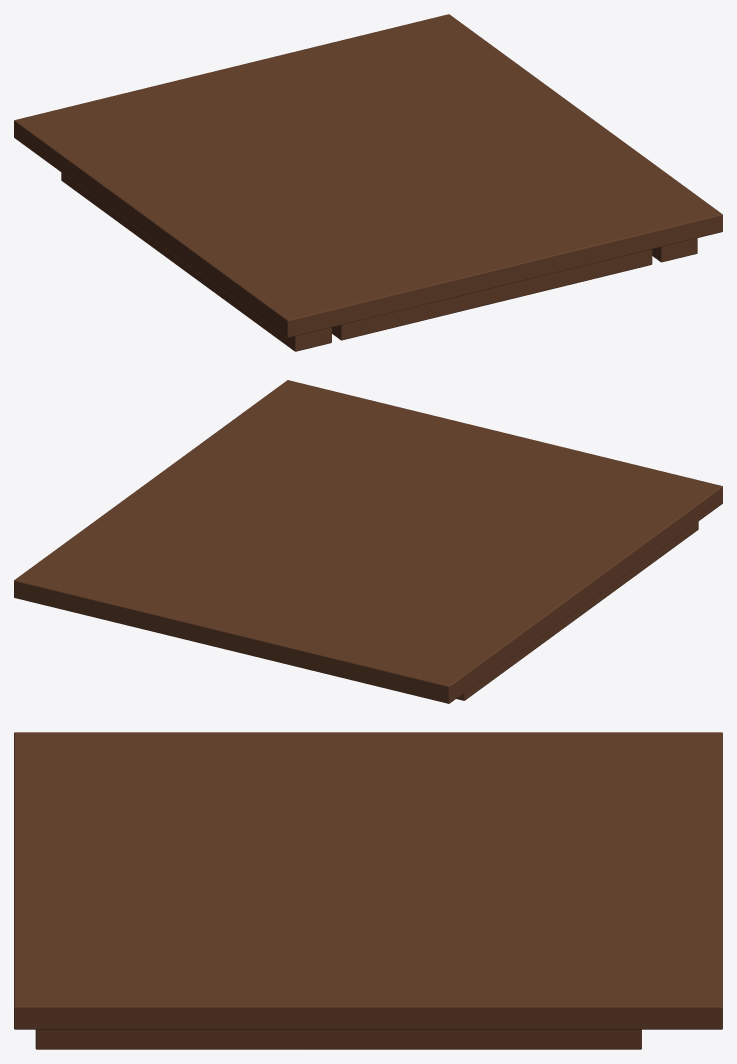
3 views of the same model, one above another, from view 1: azimuth 30°, elevation 25°; view 2: azimuth 150°, elevation 25°; view 3: azimuth 270°, elevation 25° (orthographic). The views are drawn at different scales.
Visible parts, largest first — view 1: MainModel:0; view 2: MainModel:0; view 3: MainModel:0.
Boxes of the visible parts, bbox=[...] form: MainModel:0: bbox=[14, 14, 722, 351]; MainModel:0: bbox=[14, 380, 722, 703]; MainModel:0: bbox=[14, 732, 722, 1049].
Bounding box in the file's own units: 1.66 × 0.1525 × 1.81.
